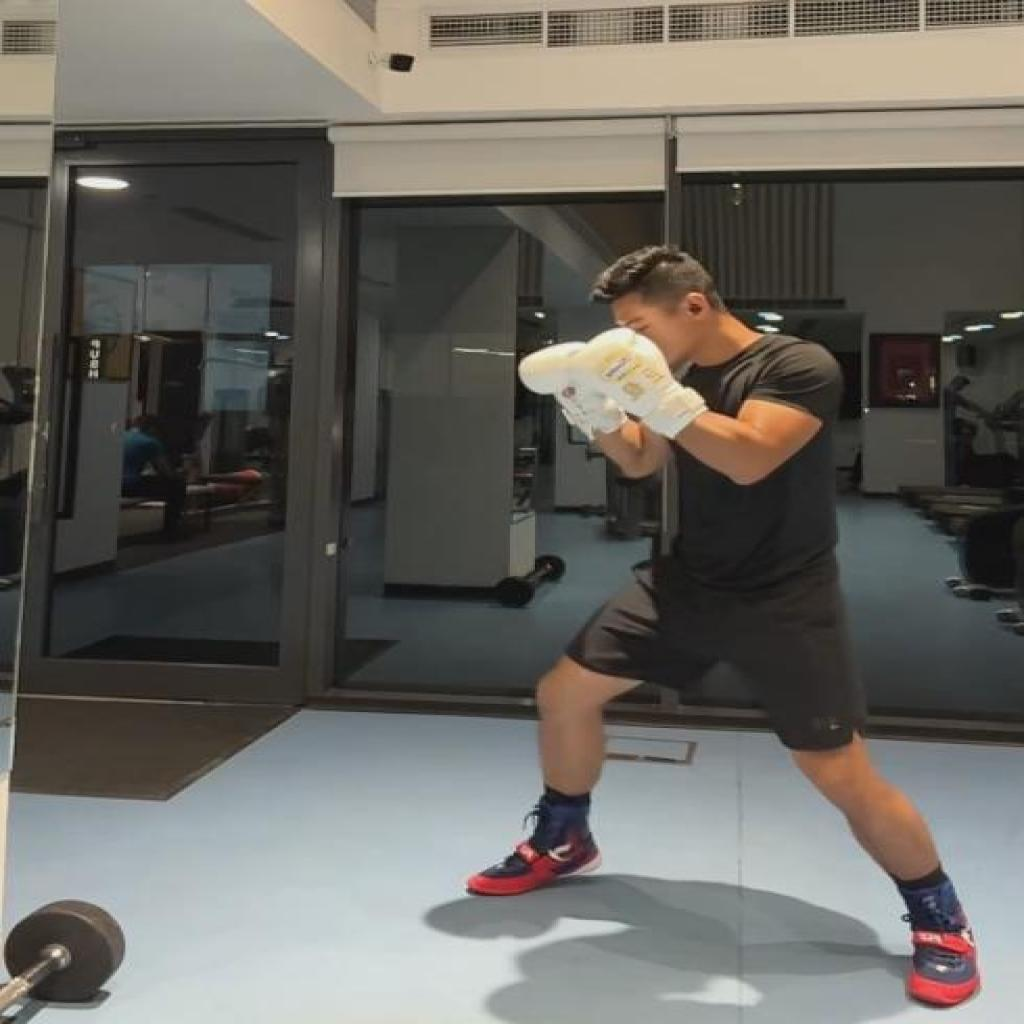no punch: (468, 237, 989, 1013)
